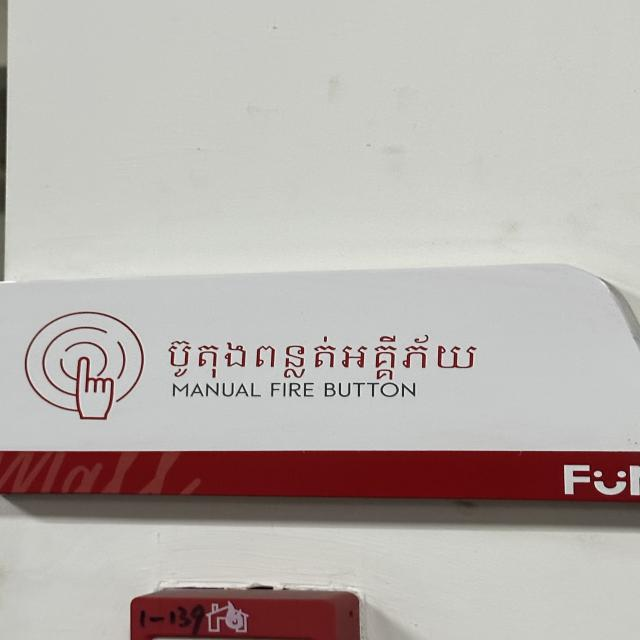Yolov11_80vkh: (157, 329, 484, 381)
